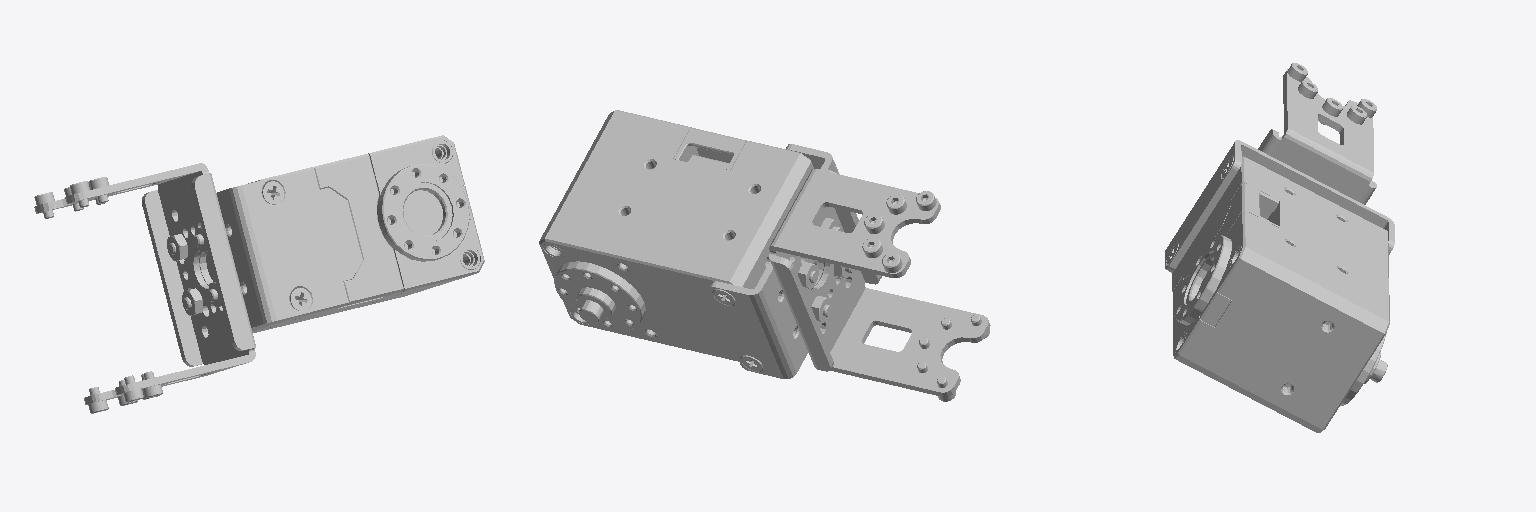
The picture shows the model from 3 angles: view 1: azimuth 30°, elevation 25°; view 2: azimuth 150°, elevation 25°; view 3: azimuth 270°, elevation 25°; orthographic projection.
Visible parts, largest first — view 1: off; view 2: off; view 3: off.
Boxes of the visible parts, <box> form: off: <box>34,135,484,413</box>; off: <box>539,110,990,401</box>; off: <box>1165,63,1394,432</box>.
Size of the model in its own units: 0.0825 by 0.0487 by 0.0461.